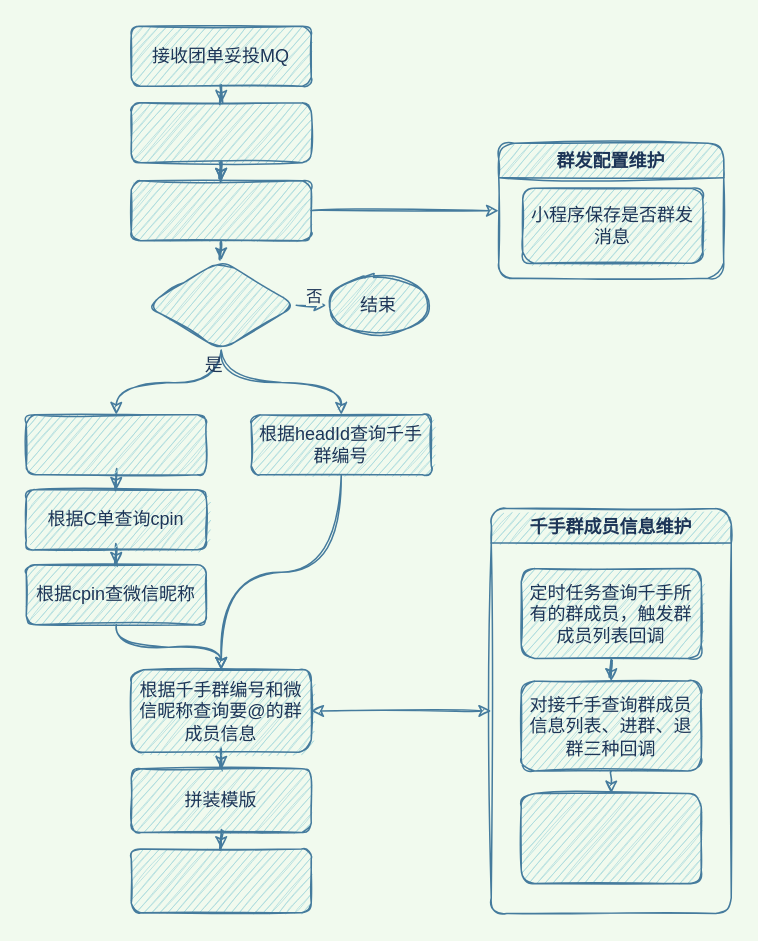
Image size: 758x941. Some labels were removed from this diagram. The shapes that lost their labels are listed below. From the top down, each one's centre as x and y in pixels, then its label:
At (x=220, y=132): "根据物流团单查询headId".
At (x=220, y=210): "根据物headId查询群配置".
At (x=220, y=304): "是否发送消息".
At (x=115, y=444): "根据物流团单查询C单".
At (x=610, y=838): "新增修改千手群成员信息表".
At (x=220, y=880): "发送群消息".
